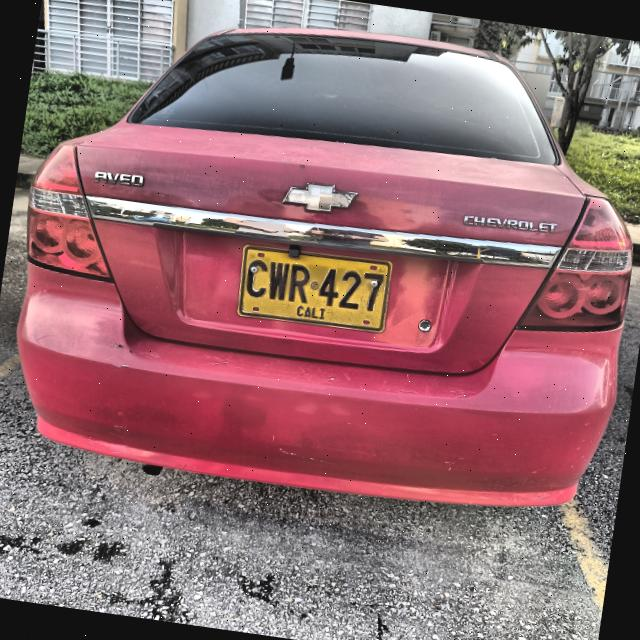plate: (240, 247, 391, 331)
